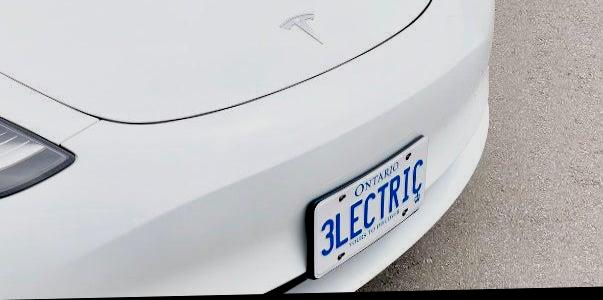License_Plate: (298, 133, 429, 279)
